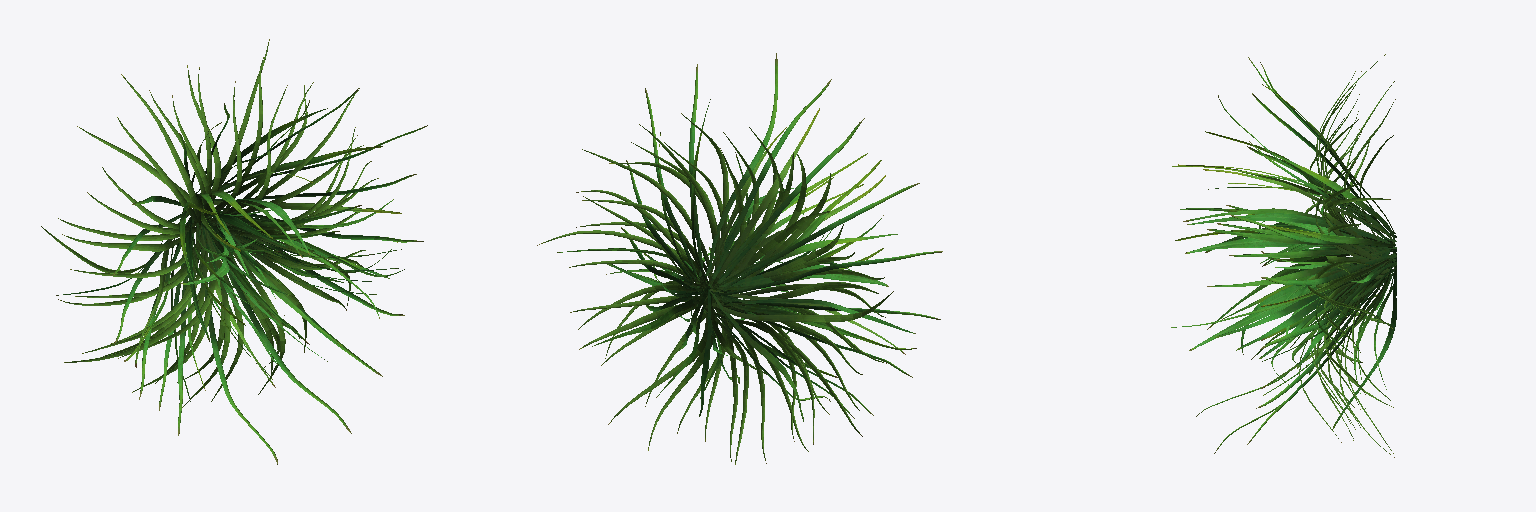
3 renders of one model, left to right at view 1: azimuth 30°, elevation 25°; view 2: azimuth 150°, elevation 25°; view 3: azimuth 270°, elevation 25°, orthographic.
Visible parts, largest first — view 1: Object.1; view 2: Object.1; view 3: Object.1.
Boxes of the visible parts, x1,y1,x2,y2 form: Object.1: [41, 39, 427, 464]; Object.1: [537, 53, 942, 464]; Object.1: [1171, 54, 1396, 457].
Size of the model in its own units: 0.5119 by 0.492 by 0.2945.
1 materials, 1 textured.